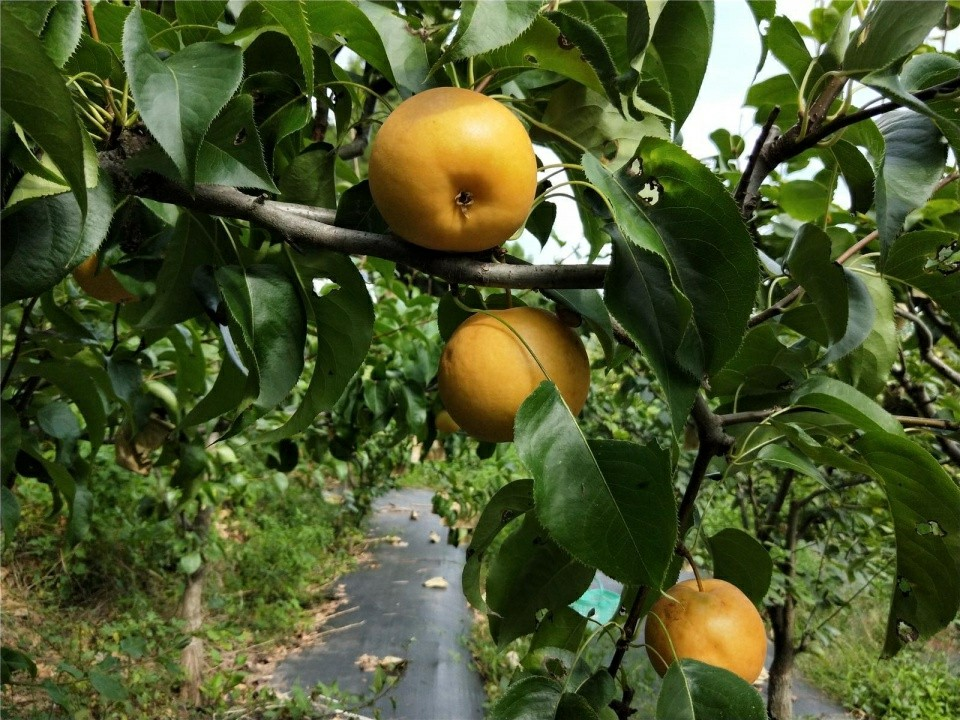pear: (371, 85, 536, 255), (442, 308, 589, 439), (647, 577, 771, 697)
